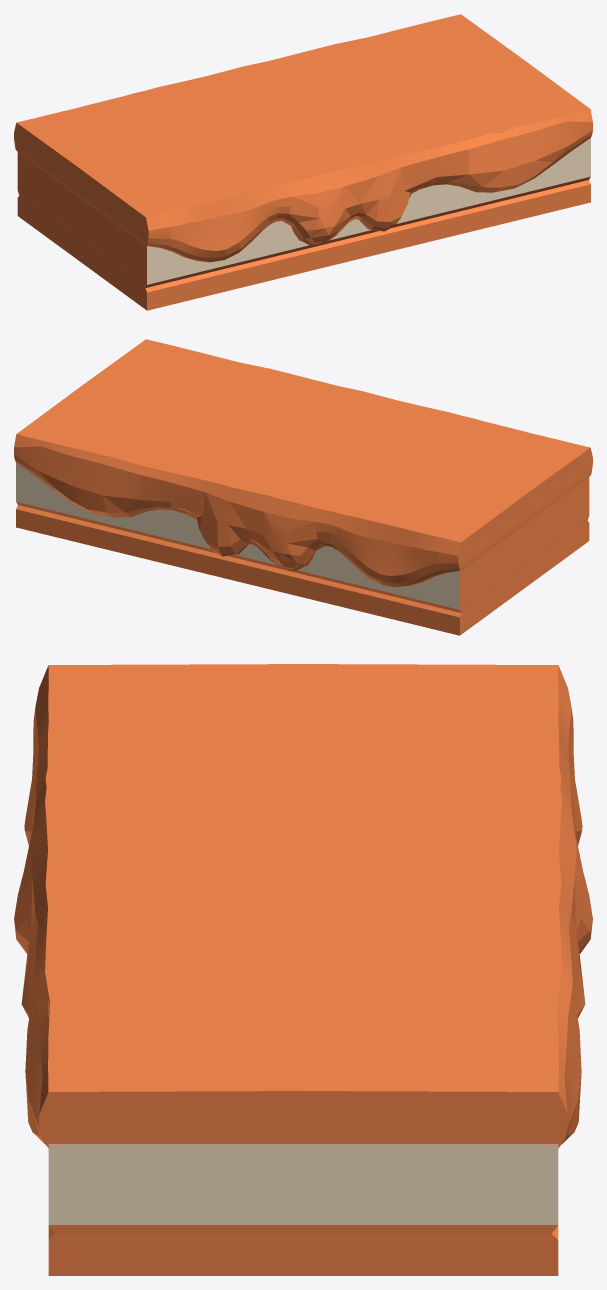
Rendered from platform.fbx.
3 renders of one model, top to bottom at view 1: azimuth 30°, elevation 25°; view 2: azimuth 150°, elevation 25°; view 3: azimuth 270°, elevation 25°, orthographic. The views are drawn at different scales.
Visible parts, largest first — view 1: Platform; view 2: Platform; view 3: Platform.
Part boxes in pixels (x1=…): Platform: x1=14, y1=14, x2=592, y2=310; Platform: x1=14, y1=339, x2=592, y2=635; Platform: x1=14, y1=664, x2=592, y2=1275.
Bounding box in the file's own units: 501 × 101 × 287.
